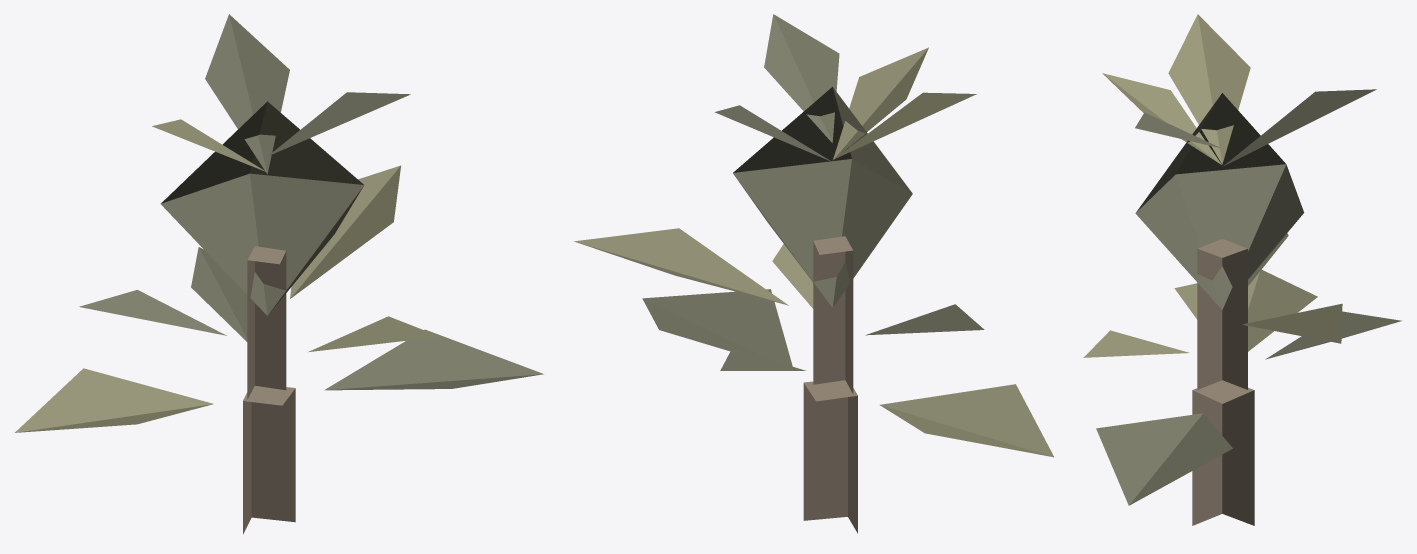
File: shu.xiangzhang@seedling__winter.glb
3 renders of one model, left to right at view 1: azimuth 30°, elevation 25°; view 2: azimuth 150°, elevation 25°; view 3: azimuth 270°, elevation 25°, orthographic. The views are drawn at different scales.
Visible parts, largest first — view 1: shu.xiangzhang@seedling__winter; view 2: shu.xiangzhang@seedling__winter; view 3: shu.xiangzhang@seedling__winter.
Boxes of the visible parts, x1,y1,x2,y2 form: shu.xiangzhang@seedling__winter: (15, 14, 543, 534); shu.xiangzhang@seedling__winter: (574, 14, 1053, 533); shu.xiangzhang@seedling__winter: (1083, 14, 1401, 525).
Size of the model in its own units: 2.04 by 1.88 by 1.2.
